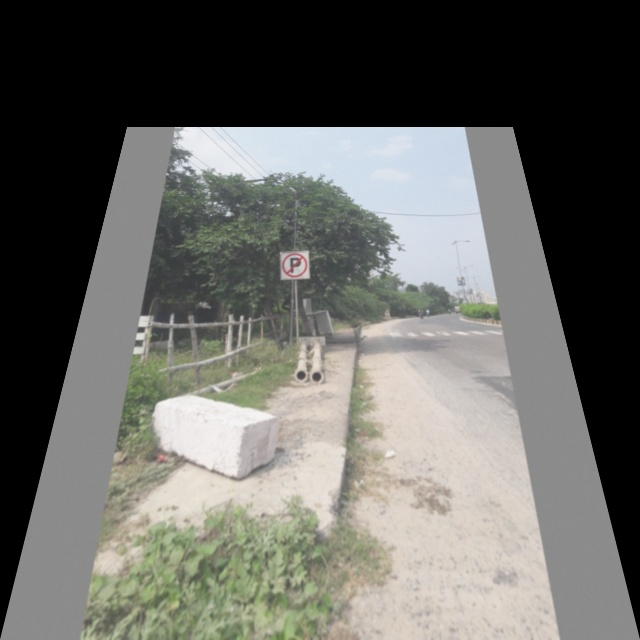No_Parking: (277, 249, 311, 282)
